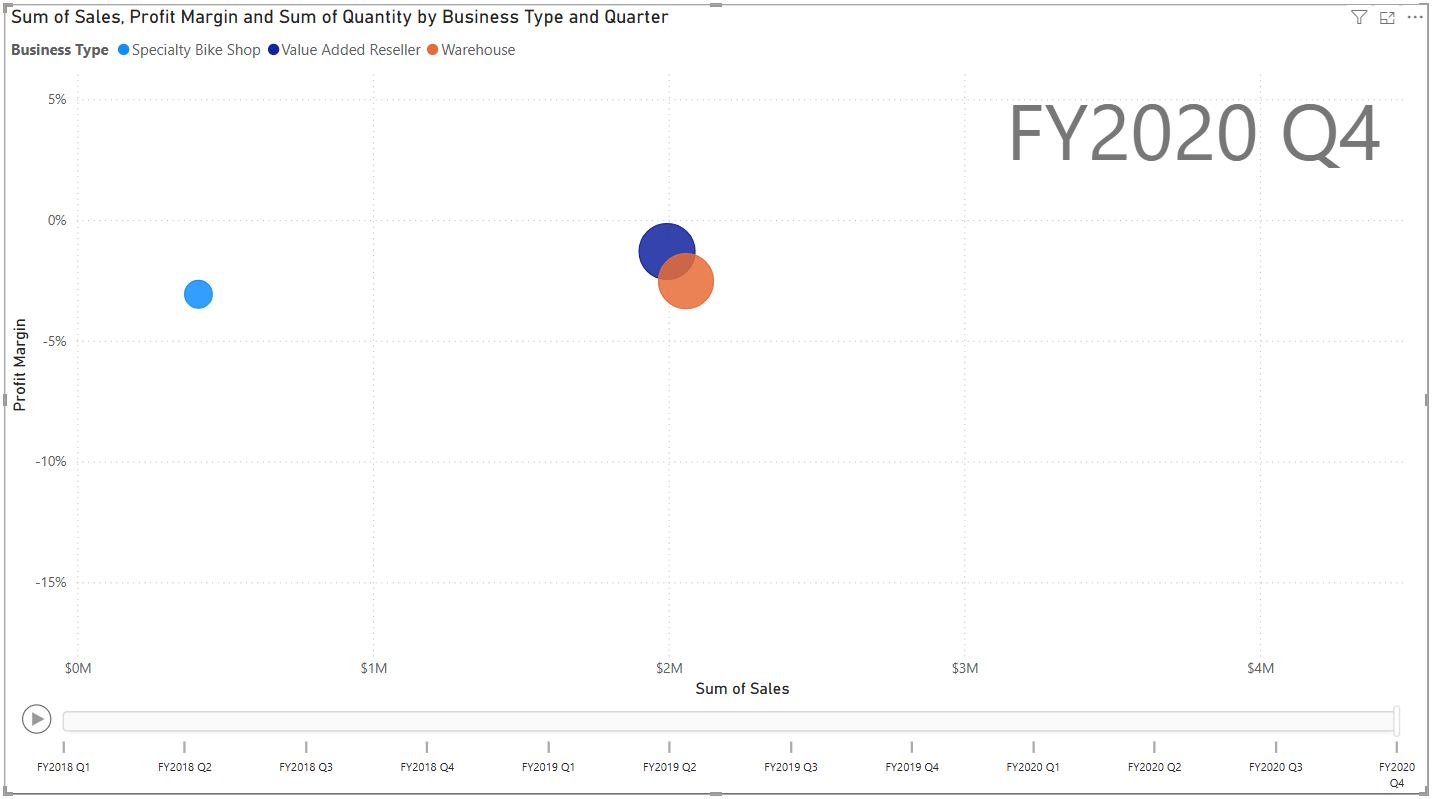

This screenshot's page, from the dashboard's own definition file:
{"tool":"powerbi","page":{"name":"Scatter Chart","canvas":[1280,720],"ordinal":4},"visuals":[{"type":"scatterChart","fields":{"X":["Sum(Sales.Sales)"],"Y":["Sales.Profit Margin"],"Series":["Reseller.Business Type"],"Size":["Sum(Sales.Quantity)"],"Play":["Date.Quarter"]},"box":[0,0,1280.2,720],"z":0}]}

Visuals, with their boxes in screenshot pixels (x1, y1, x2, y2), scaled from the page's 1280x720 canvas onto the 1435x799 screenshot:
scatterChart - Sum(Sales.Sales) x Sales.Profit Margin: box=[0, 0, 1434, 798]
